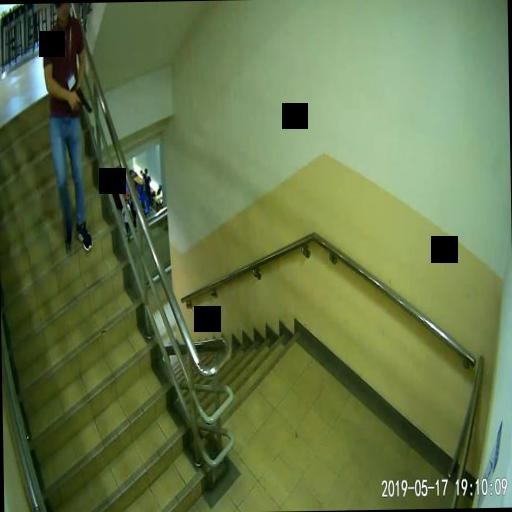Handgun: (72, 85, 90, 112)
